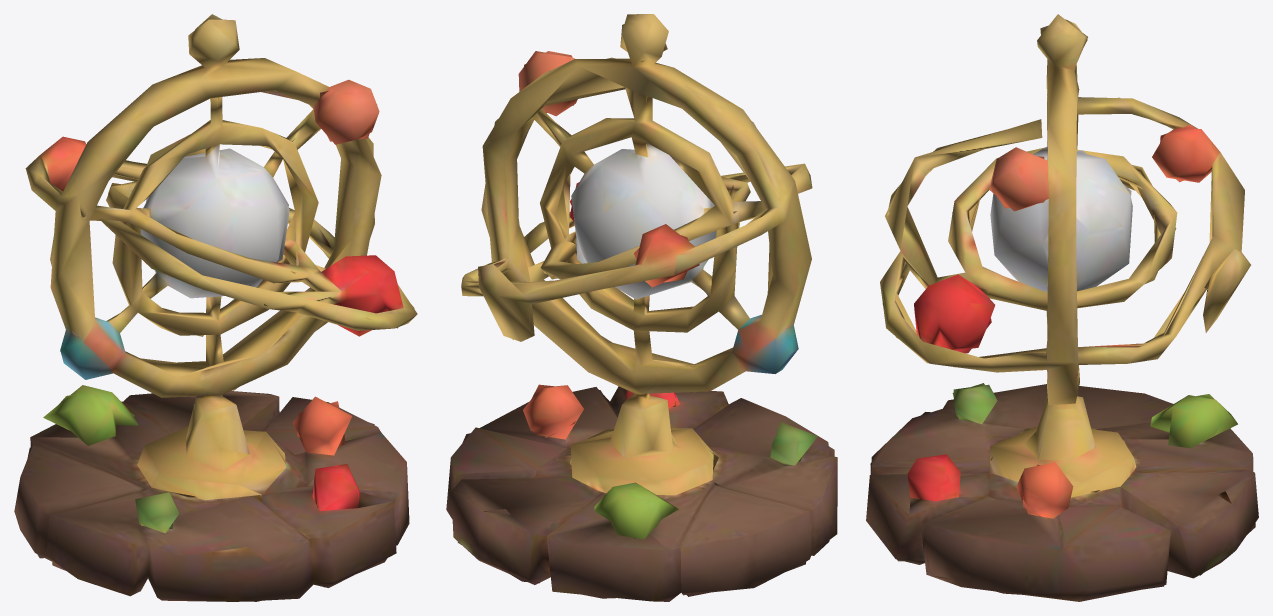
Rendered from sz-orrery.glb.
The picture shows the model from 3 angles, left to right: view 1: azimuth 30°, elevation 25°; view 2: azimuth 150°, elevation 25°; view 3: azimuth 270°, elevation 25°; orthographic projection.
Visible parts, largest first — view 1: geometry_0; view 2: geometry_0; view 3: geometry_0.
Part boxes in pixels (<box>): geometry_0: <box>14,14,417,601</box>; geometry_0: <box>446,14,837,601</box>; geometry_0: <box>866,14,1258,601</box>.
Bounding box in the file's own units: 0.7045 × 1 × 0.7039.
1 material, 1 textured.
